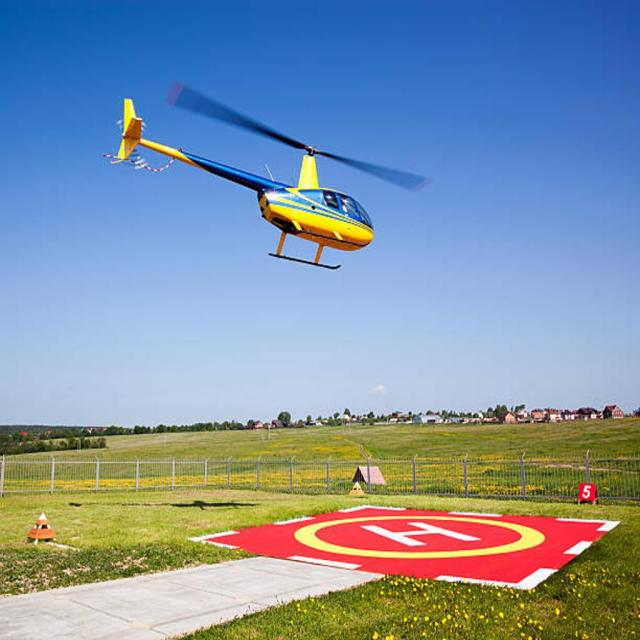helipad: (291, 512, 547, 560)
